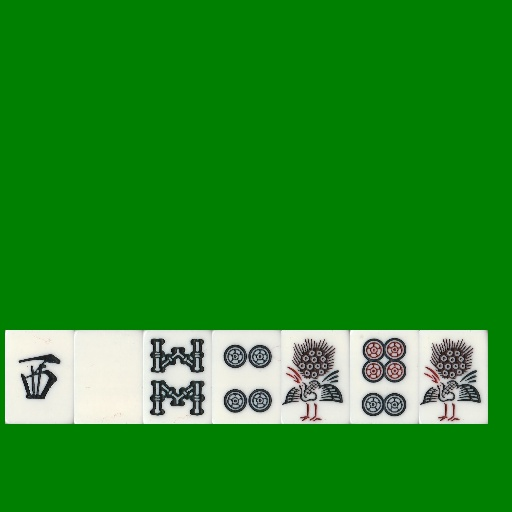1s: (281, 330, 350, 424), (419, 330, 488, 424)
4p: (212, 330, 281, 424)
6p: (350, 330, 419, 424)
8s: (143, 330, 212, 424)
west: (5, 330, 74, 424)
white: (74, 330, 143, 424)
